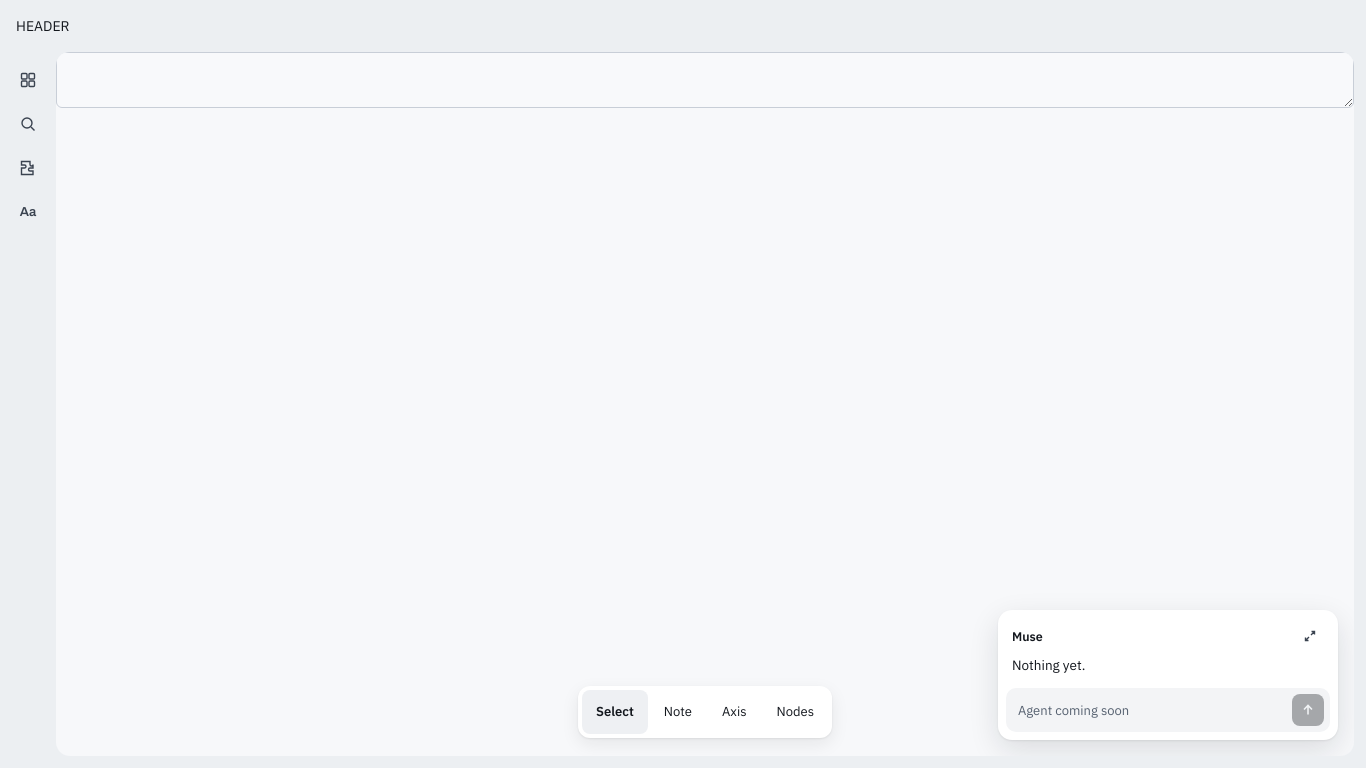
BoardShell › Esc closes the panel
The width and height of the screenshot is (1366, 768).
Click the button named "Vocabulary". click: click(28, 212)
box: [8,192,48,232]
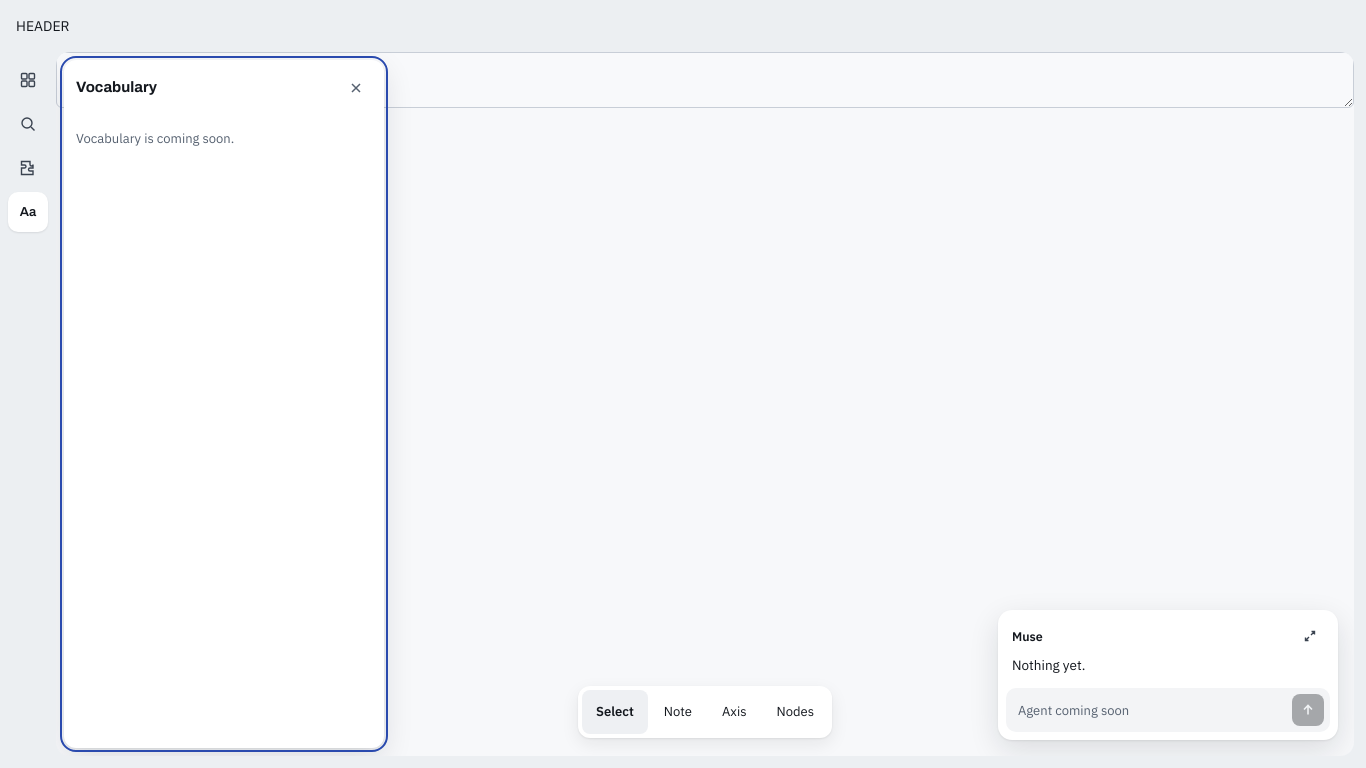
Check: the dialog "Vocabulary" shows "Vocabulary is coming soon.", box [76,130,234,147]
Press Escape in the dialog "Vocabulary", box [64,60,384,748]
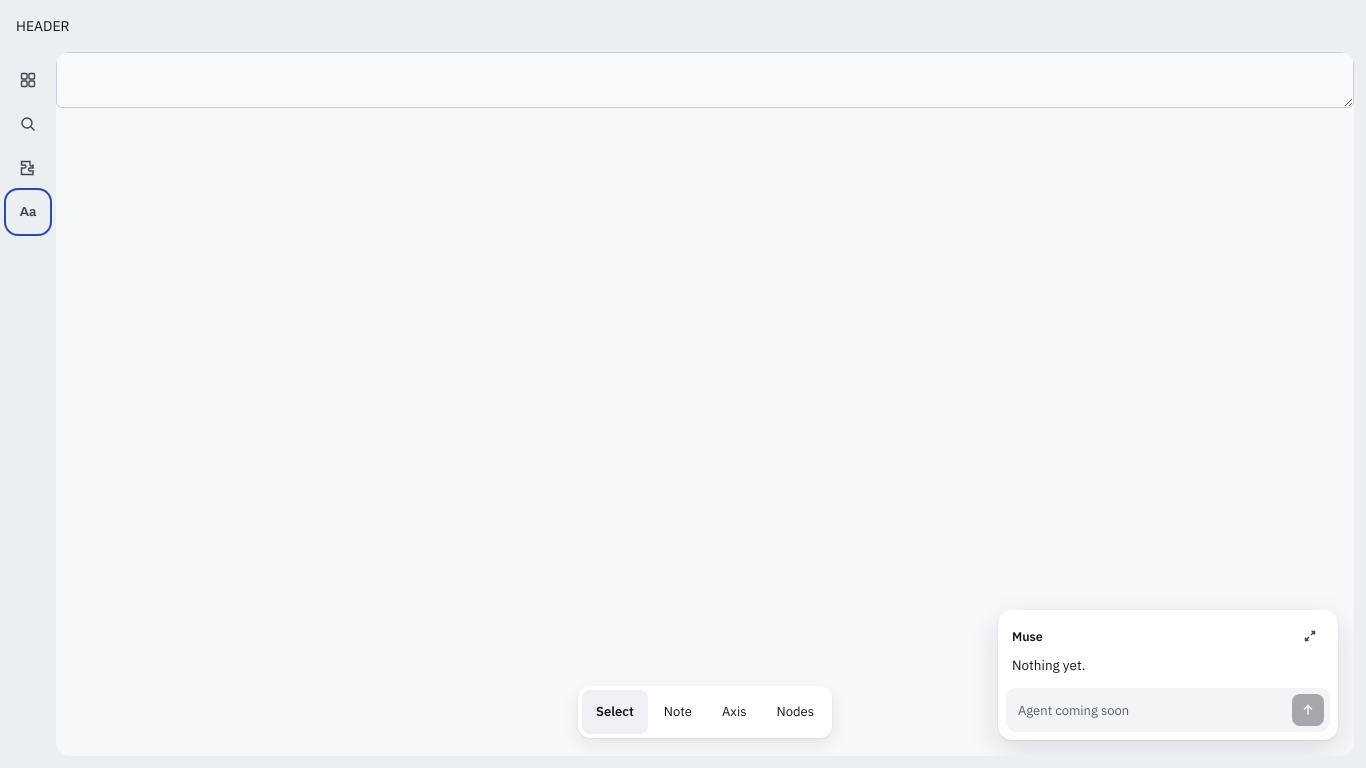
Check: the heading "Vocabulary" is gone
